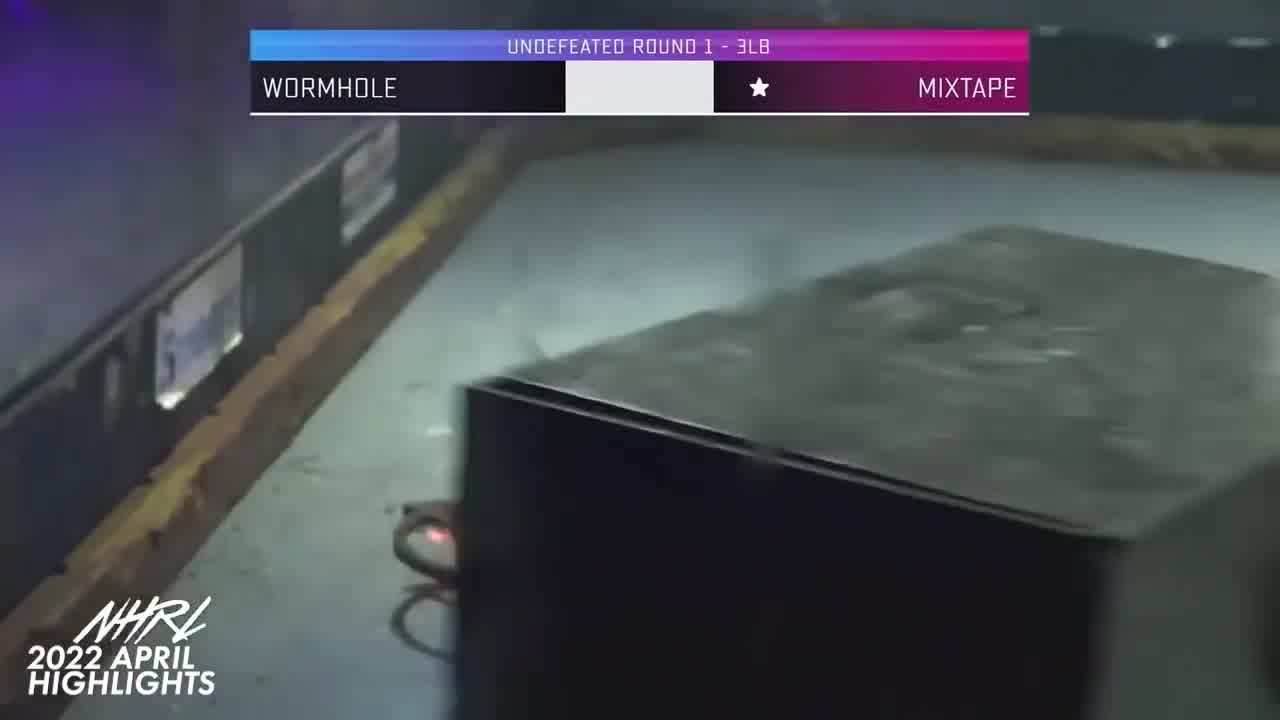housebot: (462, 224, 1280, 720)
